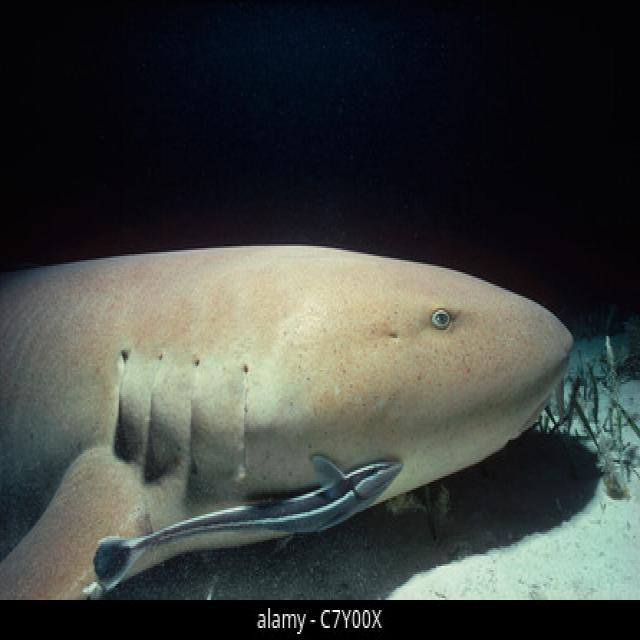Shark: (3, 174, 587, 604)
